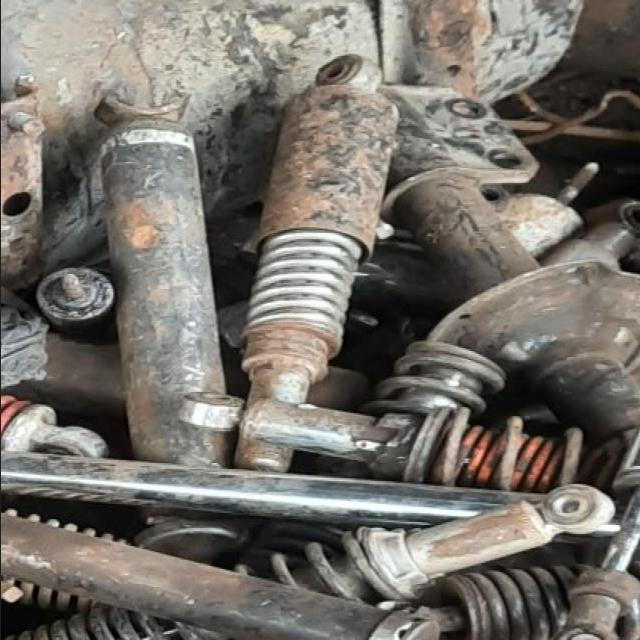shock absorber: (235, 52, 401, 472), (177, 390, 637, 508)
